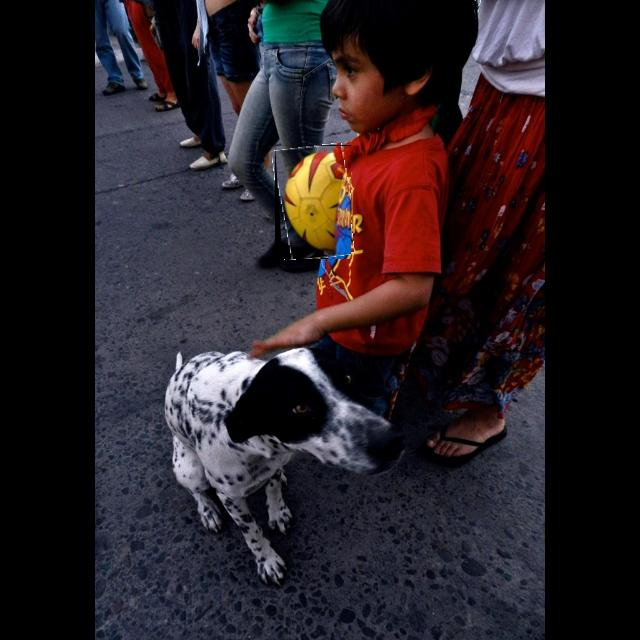Football: (275, 145, 351, 259)
